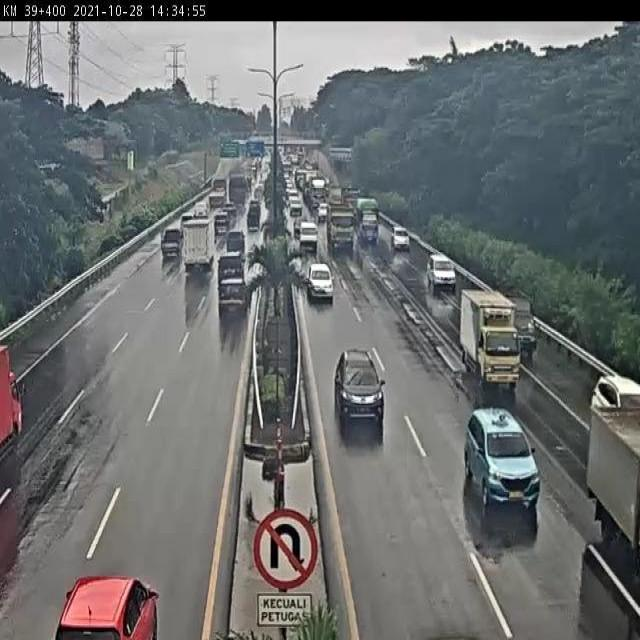big truck: (325, 202, 363, 262)
car: (463, 407, 542, 529), (328, 333, 395, 443), (59, 574, 166, 640), (508, 290, 545, 366), (586, 366, 640, 414), (424, 242, 460, 298), (305, 260, 337, 307), (218, 280, 250, 317), (219, 253, 250, 287), (162, 228, 183, 271), (393, 224, 414, 261), (299, 223, 320, 249), (228, 229, 249, 251)
small truck: (591, 405, 640, 572), (459, 289, 515, 392), (0, 348, 29, 480), (182, 219, 219, 288), (355, 196, 385, 251)
